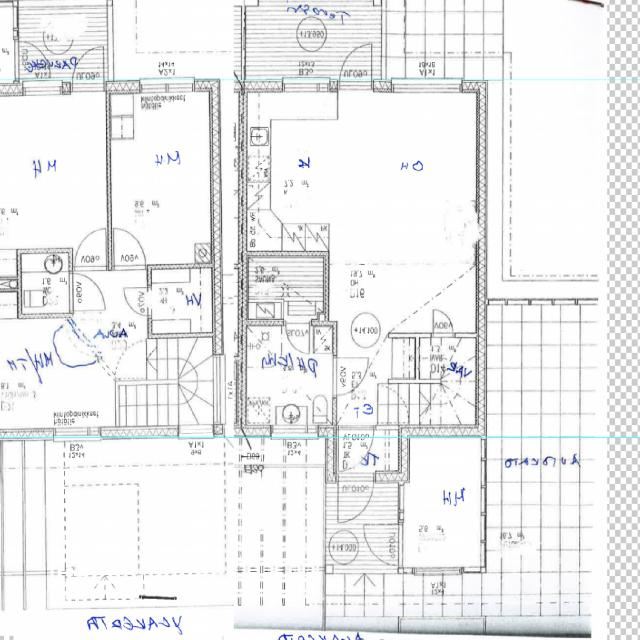door: (55, 328, 100, 379), (338, 471, 374, 524), (339, 40, 373, 92), (365, 523, 406, 564), (72, 42, 104, 92), (340, 424, 374, 469), (74, 227, 106, 270), (332, 358, 368, 395), (69, 273, 105, 310), (14, 42, 51, 78), (115, 228, 146, 270), (123, 287, 152, 316), (286, 321, 310, 354), (434, 310, 454, 338)
